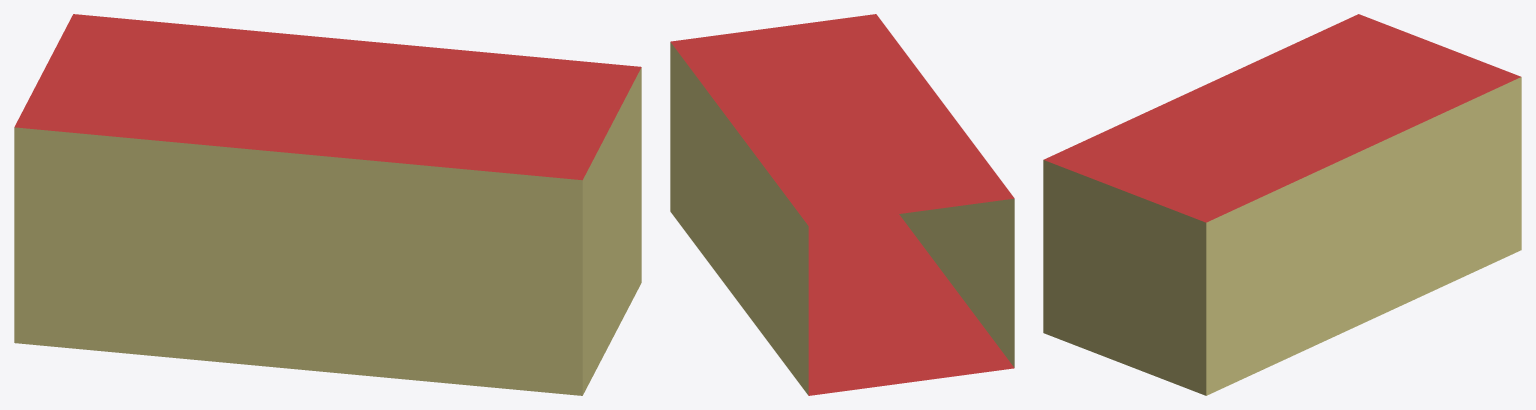
3 renders of one model, left to right at view 1: azimuth 30°, elevation 25°; view 2: azimuth 150°, elevation 25°; view 3: azimuth 270°, elevation 25°, orthographic. The views are drawn at different scales.
Parts seen in each view (by area): view 1: group_4, group_3; view 2: group_3, group_4, group_5; view 3: group_4, group_3.
Boxes of the visible parts, x1=… form: group_4: x1=14, y1=67, x2=641, y2=395; group_3: x1=14, y1=14, x2=641, y2=180; group_3: x1=670, y1=14, x2=1014, y2=225; group_4: x1=670, y1=42, x2=1014, y2=395; group_5: x1=808, y1=214, x2=1014, y2=395; group_4: x1=1043, y1=77, x2=1521, y2=395; group_3: x1=1043, y1=14, x2=1520, y2=222.
Size of the model in its own units: 14.05 by 13.6 by 5.44.
